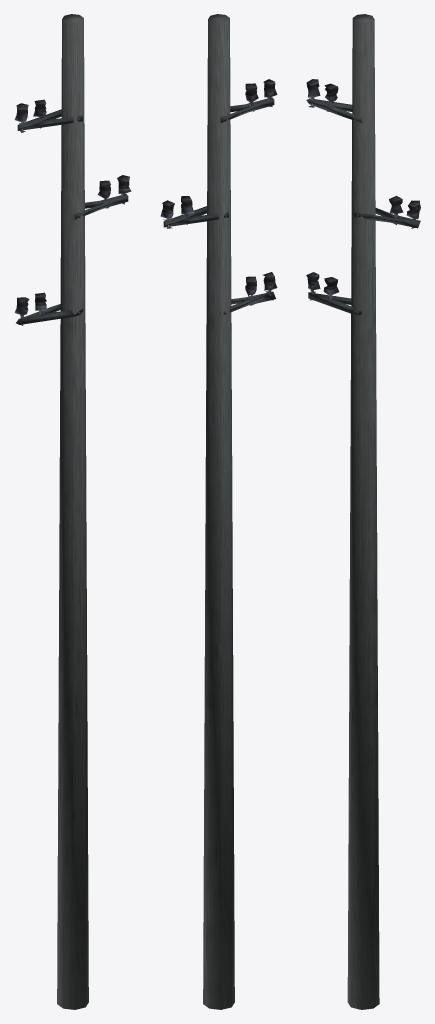
File: pole_concrete_c_lod_2.glb
3 views of the same model, side by side, from view 1: azimuth 30°, elevation 25°; view 2: azimuth 210°, elevation 25°; view 3: azimuth 330°, elevation 25° (orthographic).
Visible parts, largest first — view 1: pole_concrete_c_lod_2; view 2: pole_concrete_c_lod_2; view 3: pole_concrete_c_lod_2.
Part boxes in pixels (bbox=[...]): pole_concrete_c_lod_2: bbox=[14, 14, 131, 1009]; pole_concrete_c_lod_2: bbox=[160, 14, 277, 1009]; pole_concrete_c_lod_2: bbox=[306, 14, 420, 1009].
Bounding box in the file's own units: 1.23 × 10.2 × 0.2822.
2 materials, 2 textured.
